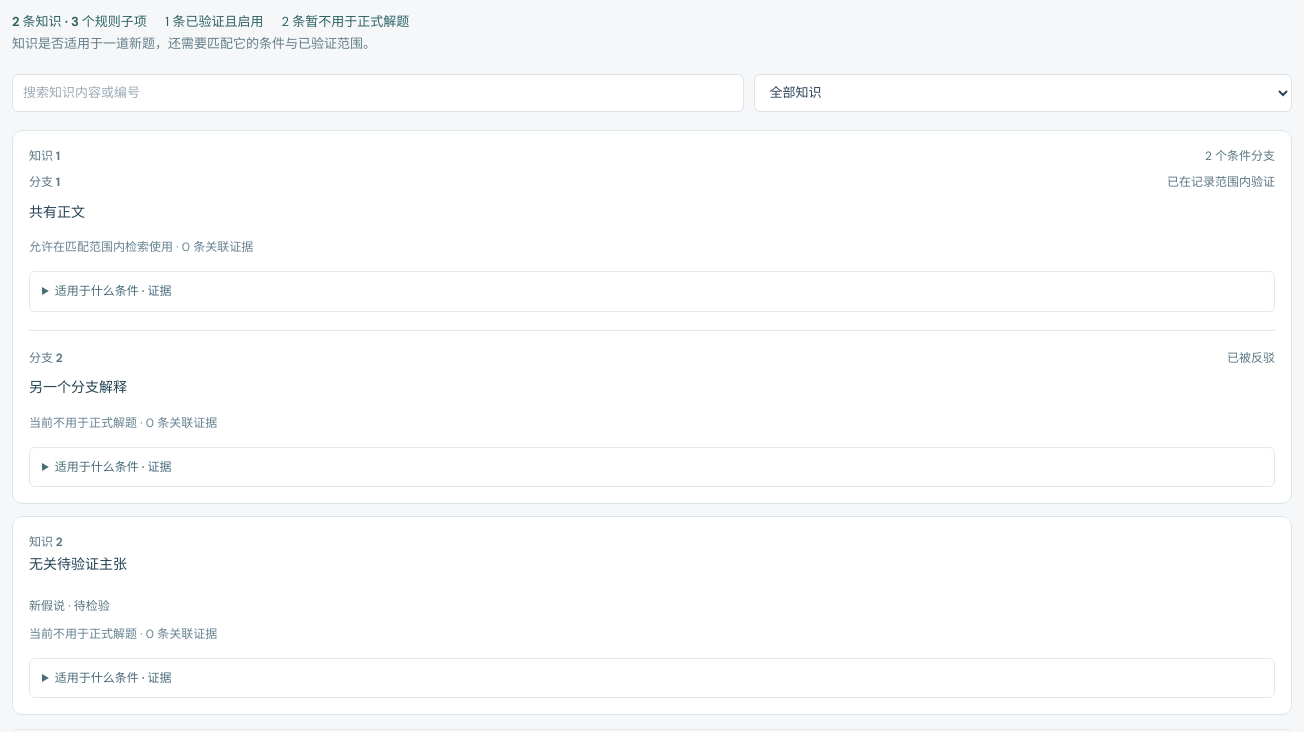
keeps other clause statuses visible when a grouped claim matches a filter
This screenshot has width=1304, height=732.
Select "已验证且启用" in the dropdown named "知识使用状态" at (1023, 93), box [754,74,1292,112]
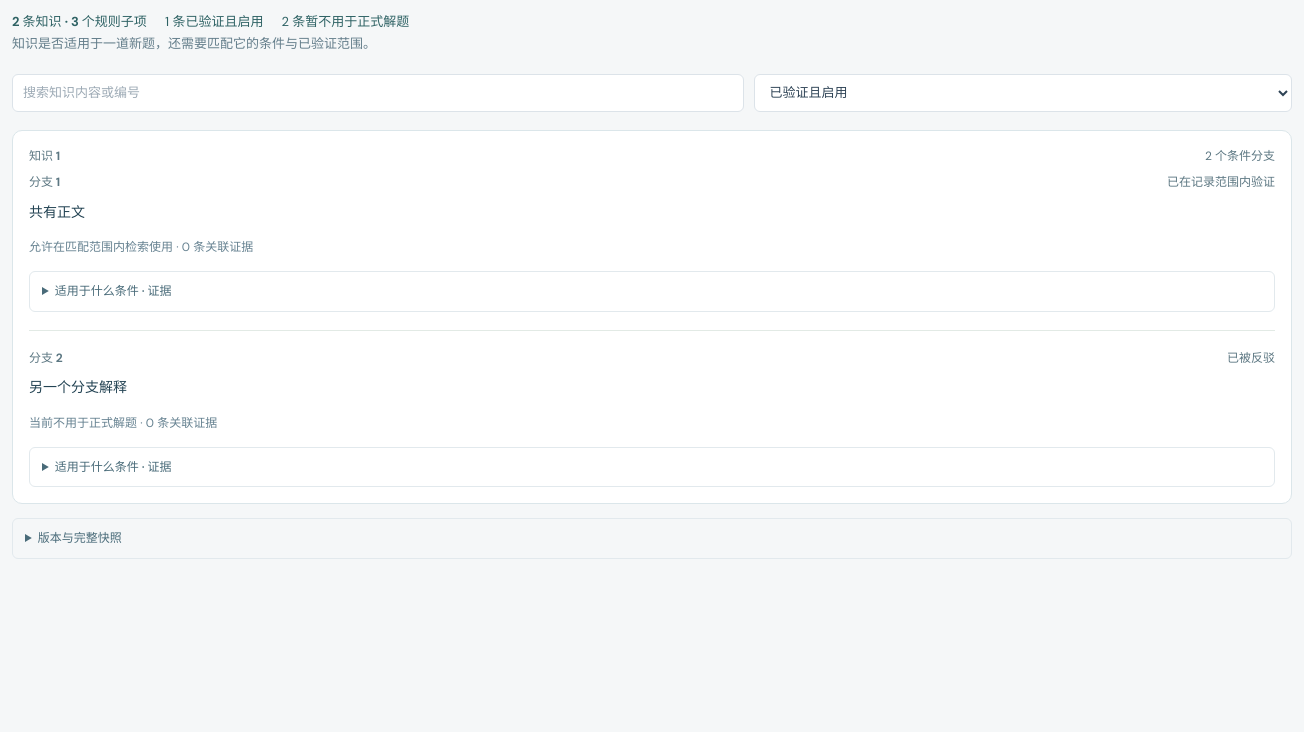
Expected: the text "共有正文" is shown, [29,203,85,221]
Expected: the text "无关待验证主张" is gone
